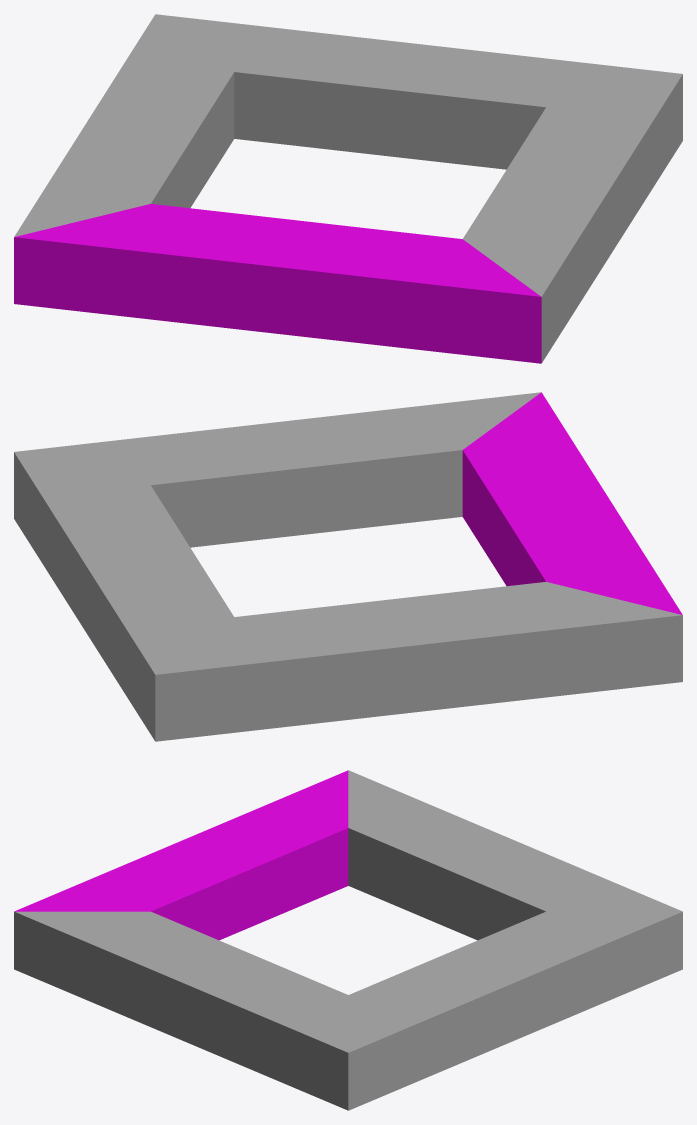
The model's file is Square_Sides.glb.
3 renders of one model, top to bottom at view 1: azimuth 30°, elevation 25°; view 2: azimuth 150°, elevation 25°; view 3: azimuth 270°, elevation 25°, orthographic. The views are drawn at different scales.
Parts seen in each view (by area): view 1: polySurface20, polySurface23, polySurface22, polySurface24; view 2: polySurface24, polySurface22, polySurface23, polySurface20; view 3: polySurface23, polySurface22, polySurface24, polySurface20.
Part boxes in pixels (box(x1,y1,x2,y2)): polySurface20: box(14, 204, 541, 363); polySurface23: box(156, 14, 681, 169); polySurface22: box(463, 74, 682, 362); polySurface24: box(14, 14, 234, 236); polySurface24: box(155, 582, 682, 741); polySurface22: box(15, 392, 540, 547); polySurface23: box(14, 452, 233, 740); polySurface20: box(462, 392, 682, 614); polySurface23: box(348, 911, 682, 1110); polySurface22: box(14, 911, 348, 1110); polySurface24: box(348, 770, 682, 940); polySurface20: box(14, 770, 348, 940).
Bounding box in the file's own units: 5.5 × 0.5249 × 5.5.
